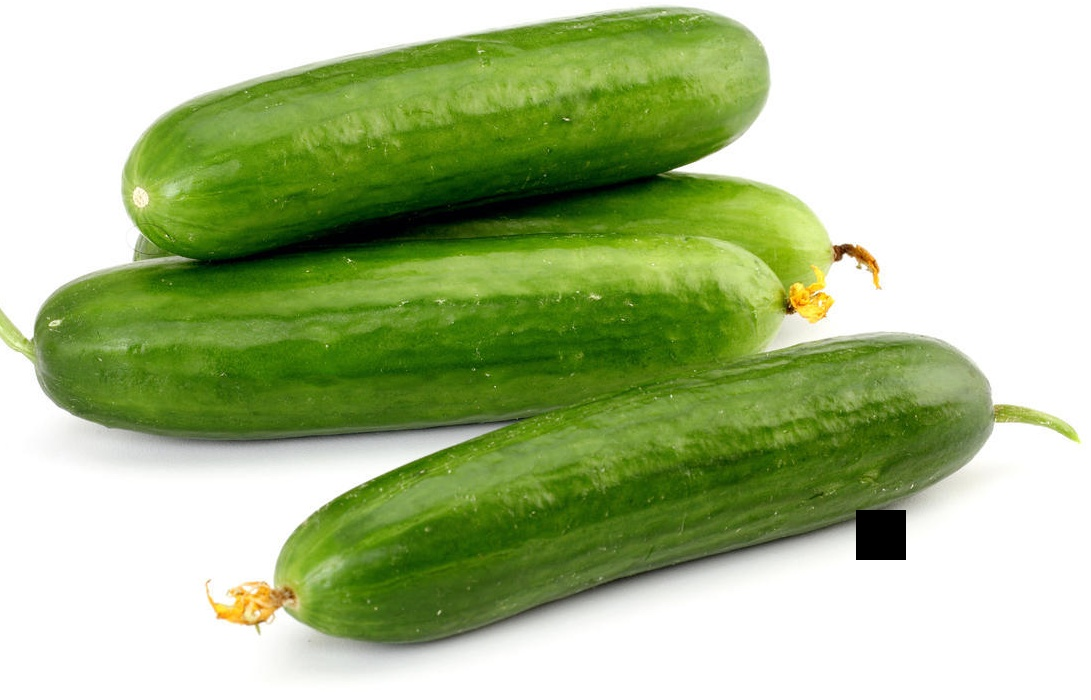cucumber: (274, 355, 993, 623), (20, 219, 798, 438), (119, 29, 765, 258)
